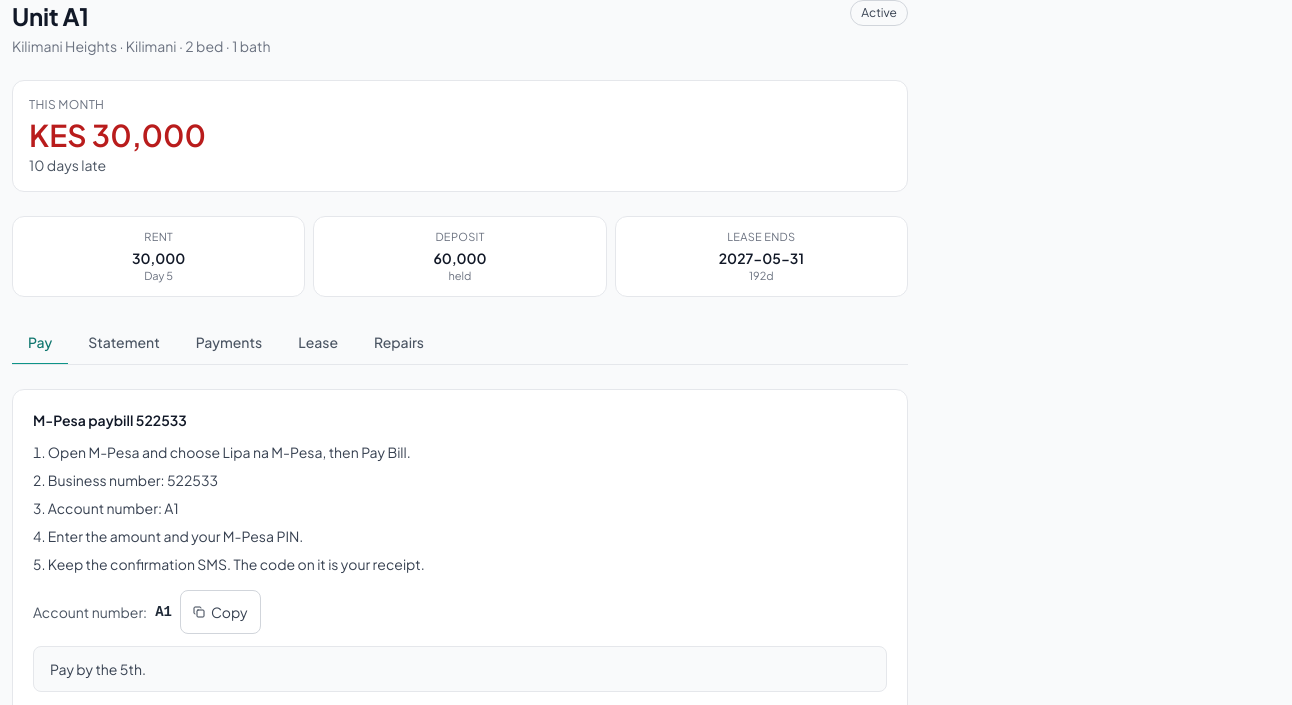
Test: the lease tab › lists the terms the tenant would otherwise have to ask for
Click the tab "Lease" at point(318, 343), box [282,321,354,365]
(page scrolled)
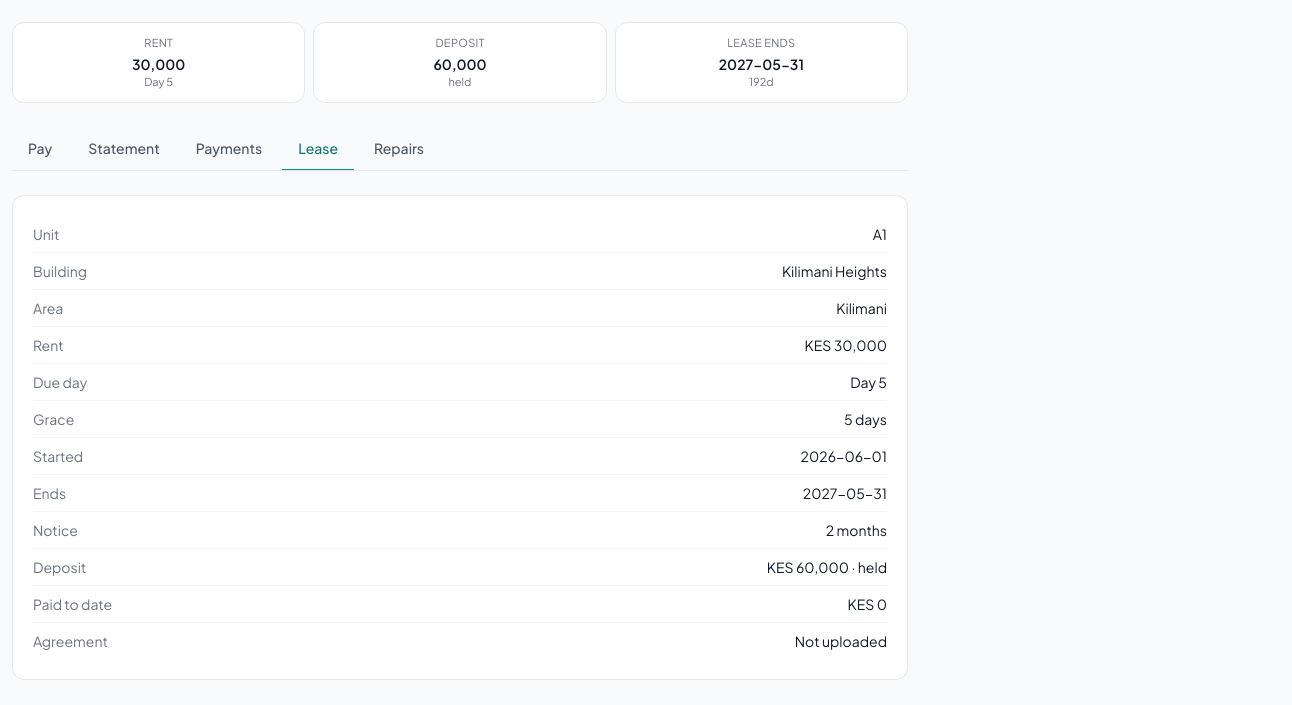
Check: the text "Due day" is shown, box [33,372,87,392]
Check: the text "Grace" is shown, box [33,409,74,429]
Check: the text "Notice" is shown, box [33,520,78,540]
